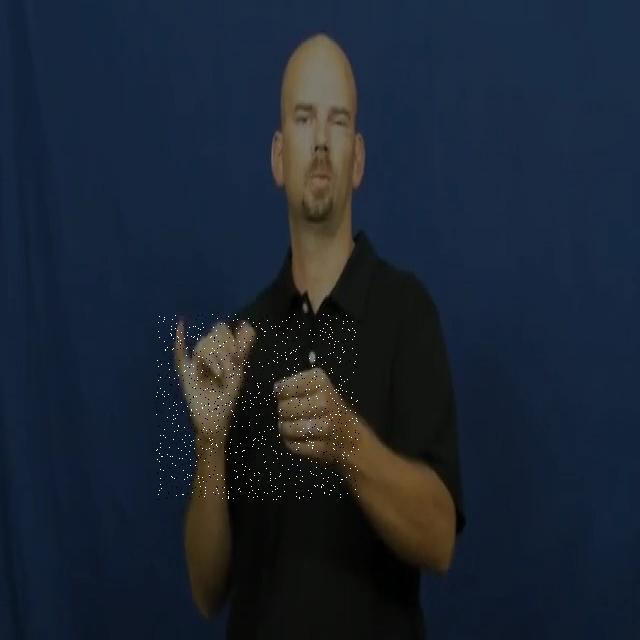soda: (156, 314, 359, 500)
